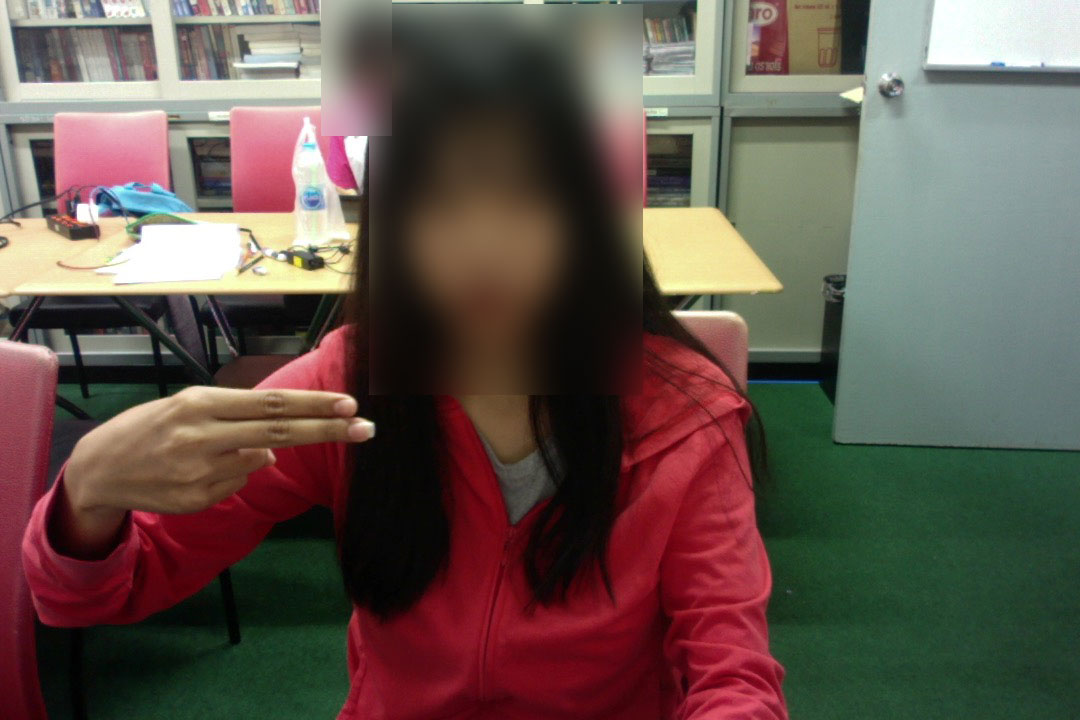hor: (49, 378, 385, 521)
